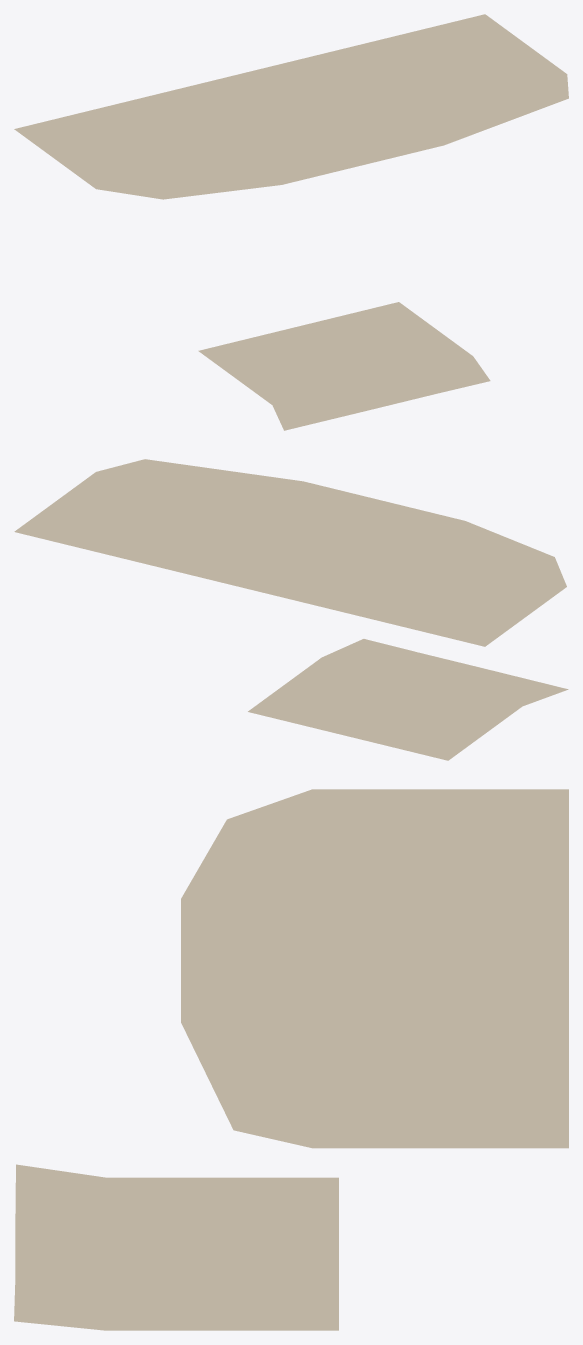
Rendered from Msh_Cascade_Lake_Env.fbx.
The picture shows the model from 3 angles, top to bottom: view 1: azimuth 30°, elevation 25°; view 2: azimuth 150°, elevation 25°; view 3: azimuth 270°, elevation 25°; orthographic projection. The views are drawn at different scales.
Parts seen in each view (by area): view 1: Msh_Cascade_Env; view 2: Msh_Cascade_Env; view 3: Msh_Cascade_Env.
Part boxes in pixels (bbox=[...]): Msh_Cascade_Env: bbox=[14, 14, 568, 430]; Msh_Cascade_Env: bbox=[14, 459, 568, 760]; Msh_Cascade_Env: bbox=[14, 789, 568, 1330].
Size of the model in its own units: 190 by 124 by 75.24.
